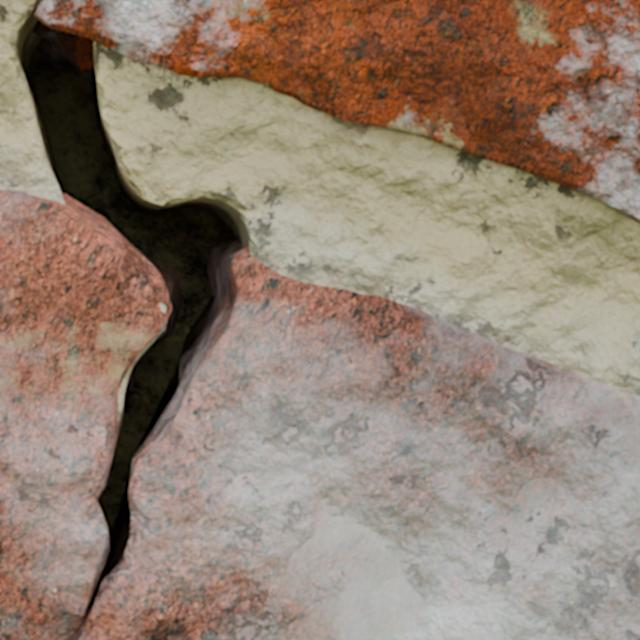broken_brick: (0, 190, 639, 639)
crack: (10, 0, 639, 606)
